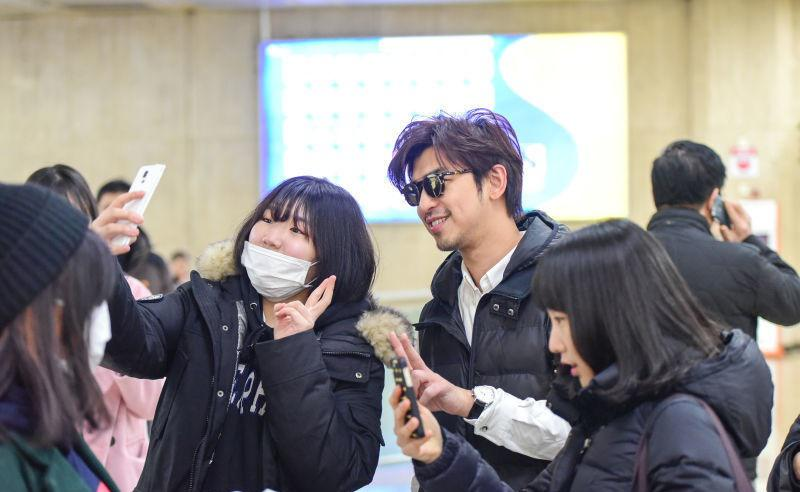NONE: (409, 164, 488, 250), (545, 298, 610, 387)
OK: (60, 269, 117, 375)
WRONG: (246, 201, 328, 293)
